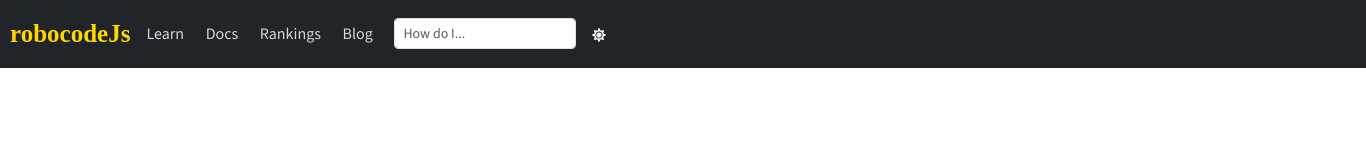
it: NavBar search › names a rate limit, which waiting actually fixes
In the search field named "Search": x=485, y=34 [394,18,576,49], type "how do I fire"
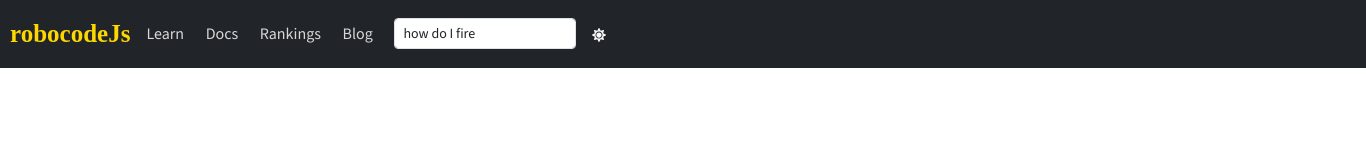
Press Enter in the search field named "Search", box [394,18,576,49]
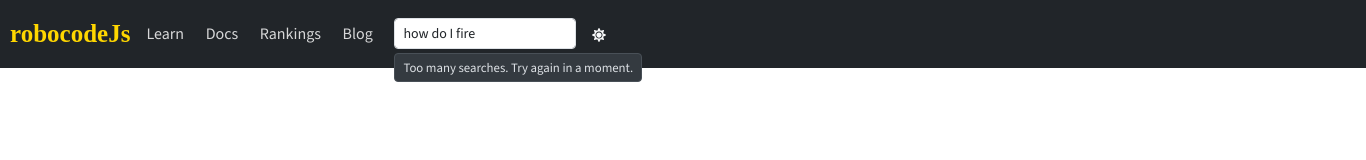
Expected: the text "Too many searches. Try again in a moment." is shown, [394,53,642,82]
